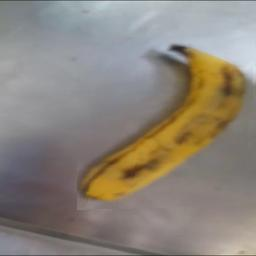Banana Semirotten: (77, 37, 256, 210)
